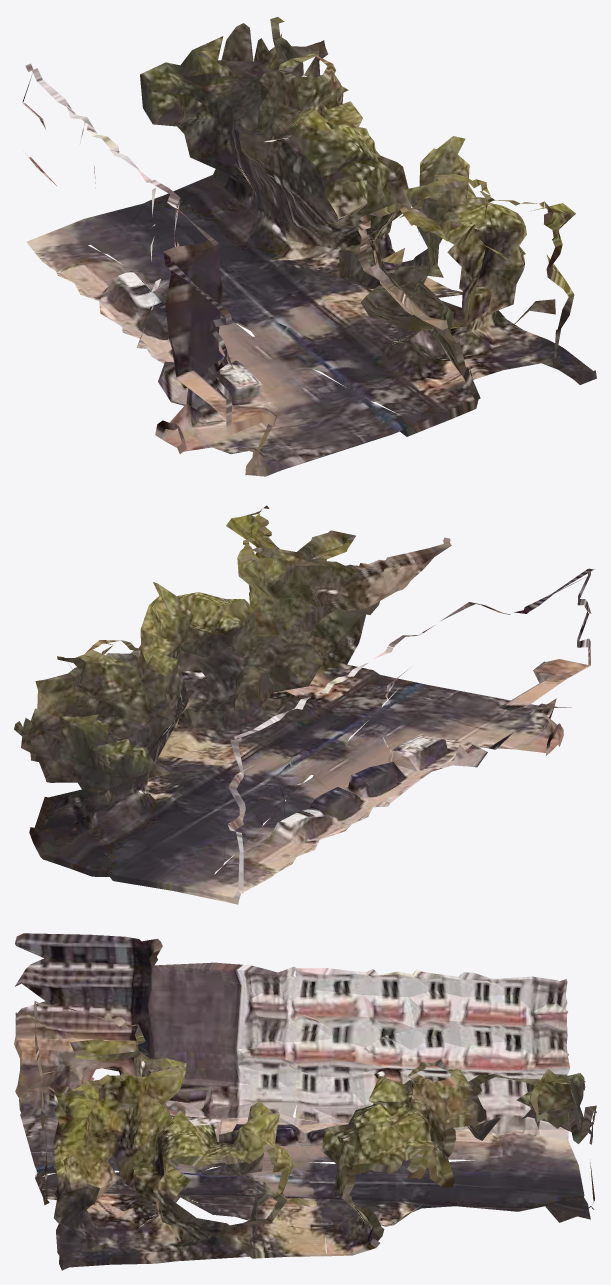
3 renders of one model, top to bottom at view 1: azimuth 30°, elevation 25°; view 2: azimuth 150°, elevation 25°; view 3: azimuth 270°, elevation 25°, orthographic. The views are drawn at different scales.
Visible parts, largest first — view 1: Mesh_0; view 2: Mesh_0; view 3: Mesh_0.
Boxes of the visible parts, x1,y1,x2,y2 form: Mesh_0: (22, 17, 596, 476); Mesh_0: (14, 505, 594, 904); Mesh_0: (14, 933, 596, 1270).
Size of the model in its own units: 29.92 by 13.44 by 41.46.
Materials: 2 (2 with a texture image).
